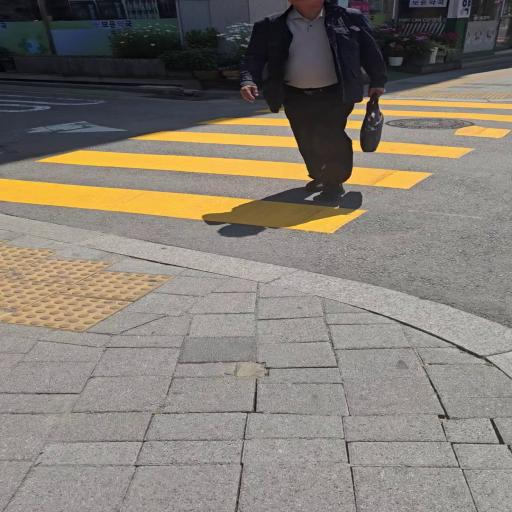yellow-crosswalk: (0, 91, 512, 243)
